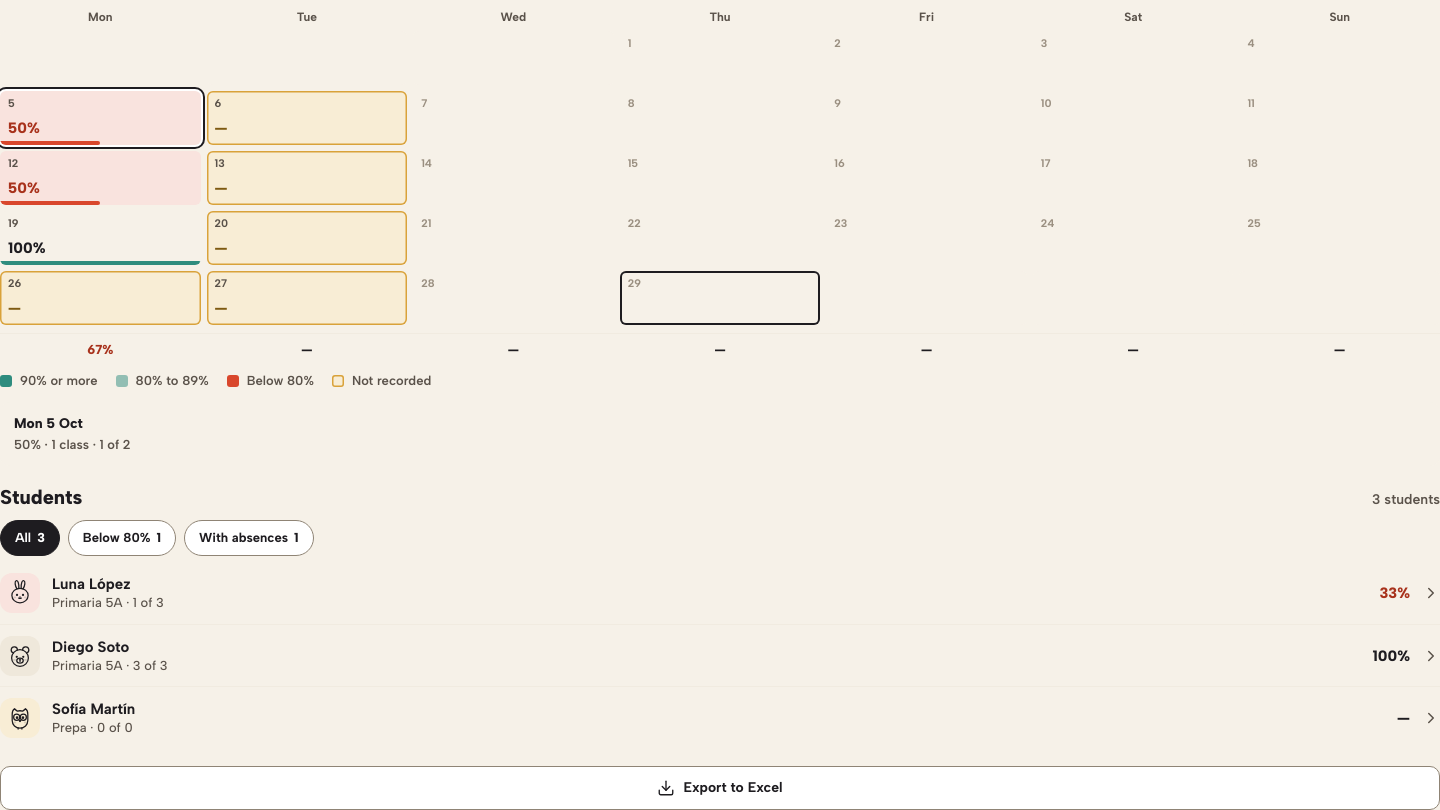
it: Tracking on mobile › shows the bars, the filter chips and the student sheet
(page scrolled)
Click the button "With absences1".
click(249, 538)  # box [184, 520, 314, 556]
(page scrolled)
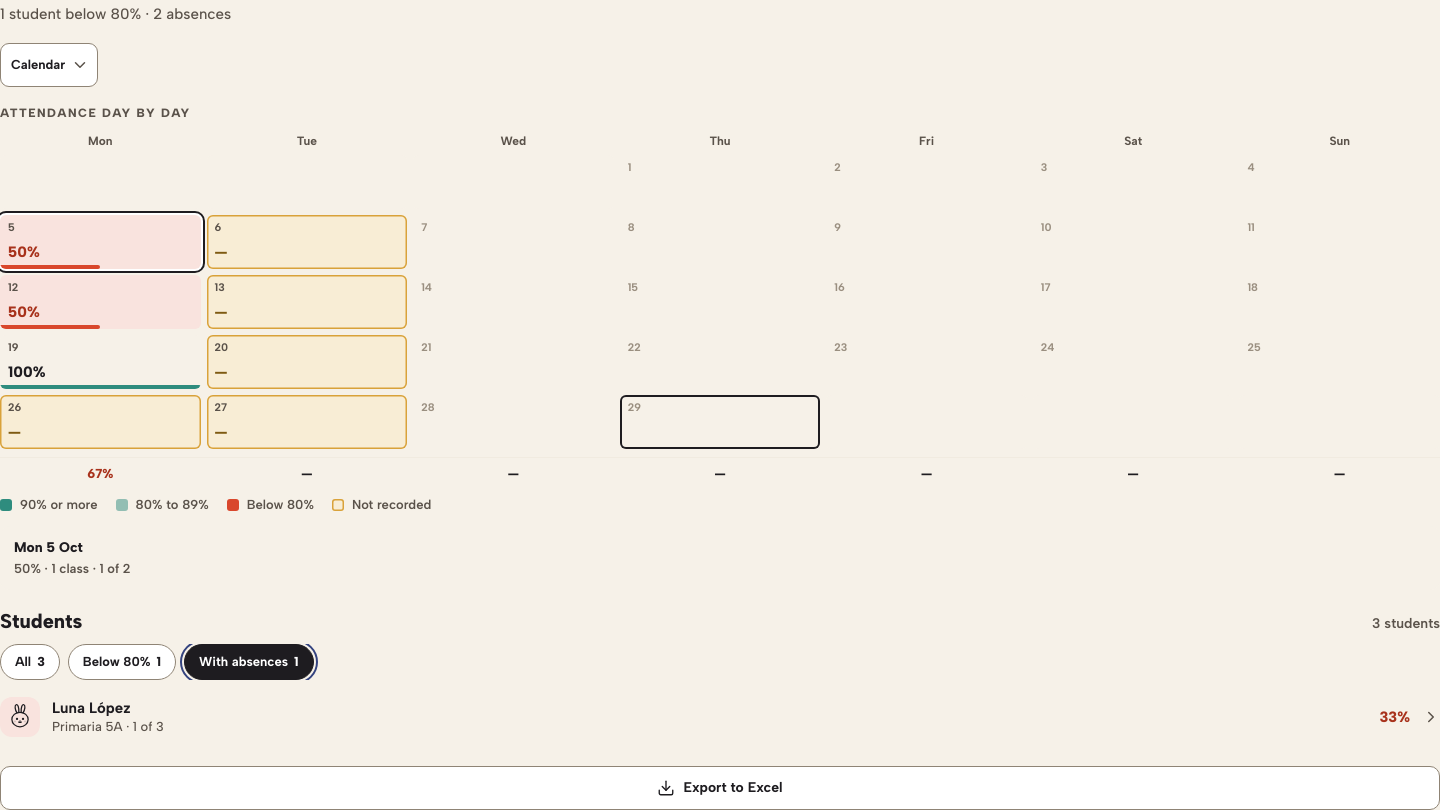
Expected: the button "Diego Soto" is gone
Click the button "Luna López Primaria 5A · 1 of 3 33%".
click(20, 717)  # box [0, 686, 1439, 748]
(page scrolled)
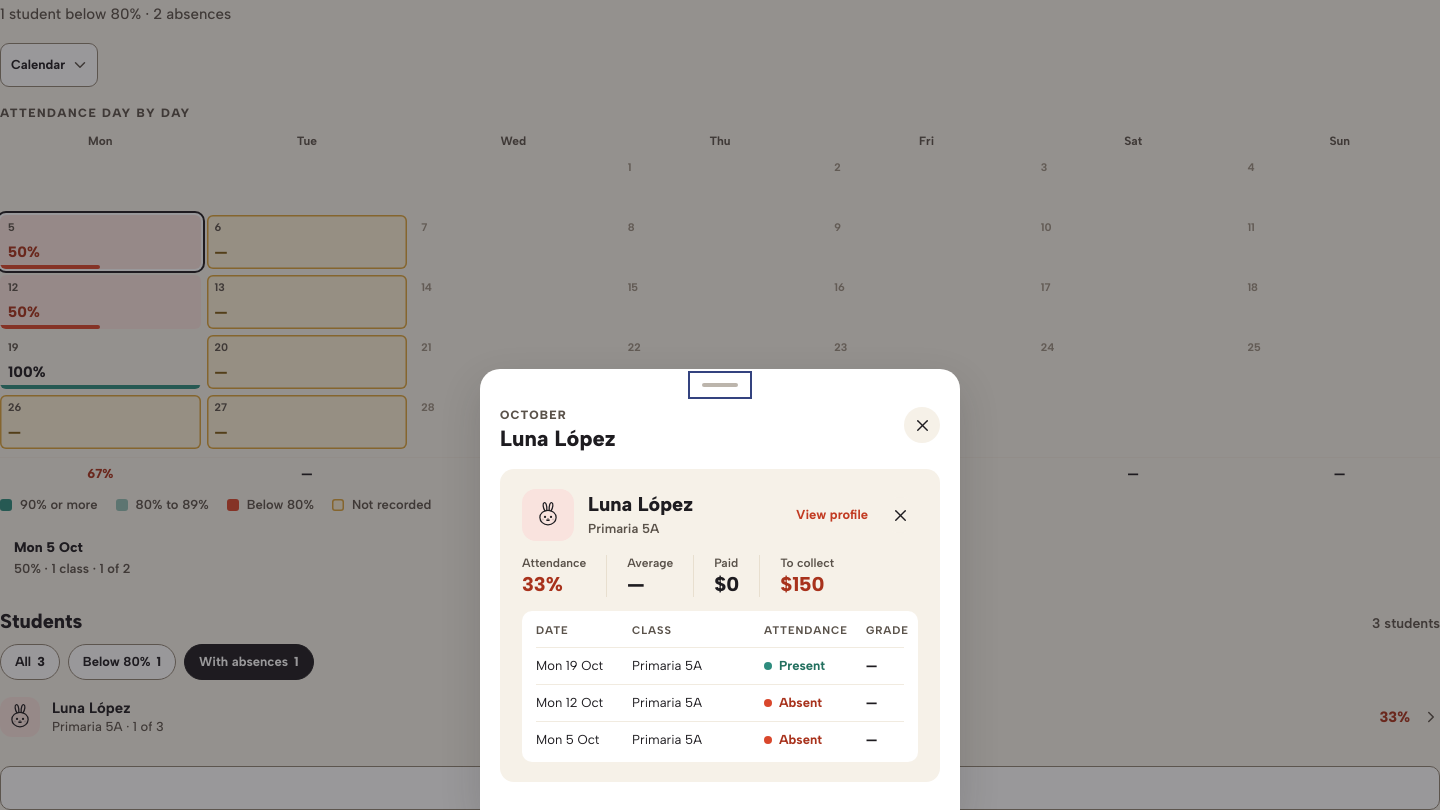
Expected: the dialog "Luna López" is shown, [480, 369, 960, 809]
